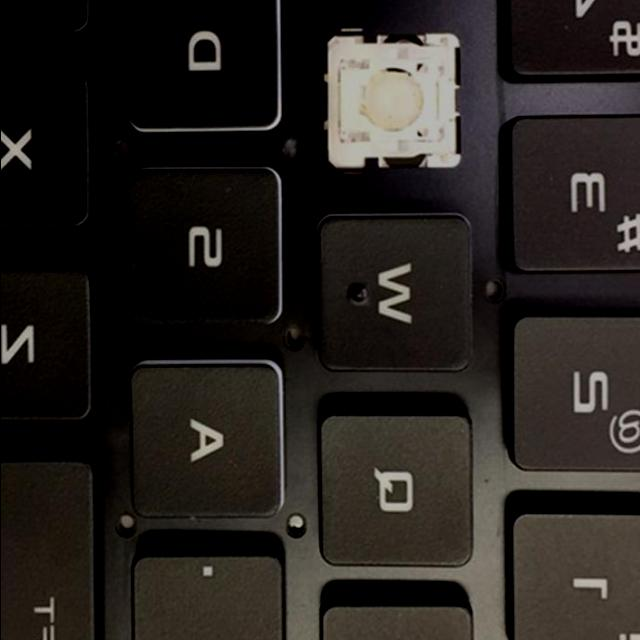1: (507, 504, 640, 640)
2: (507, 313, 640, 478)
3: (506, 114, 640, 279)
a: (129, 357, 287, 522)
d: (129, 0, 287, 138)
q: (320, 406, 478, 571)
s: (126, 164, 284, 329)
shift-left: (0, 457, 97, 640)
shift-lock: (129, 547, 287, 640)
w: (315, 215, 473, 380)
x: (0, 68, 97, 234)
z: (0, 263, 97, 429)
